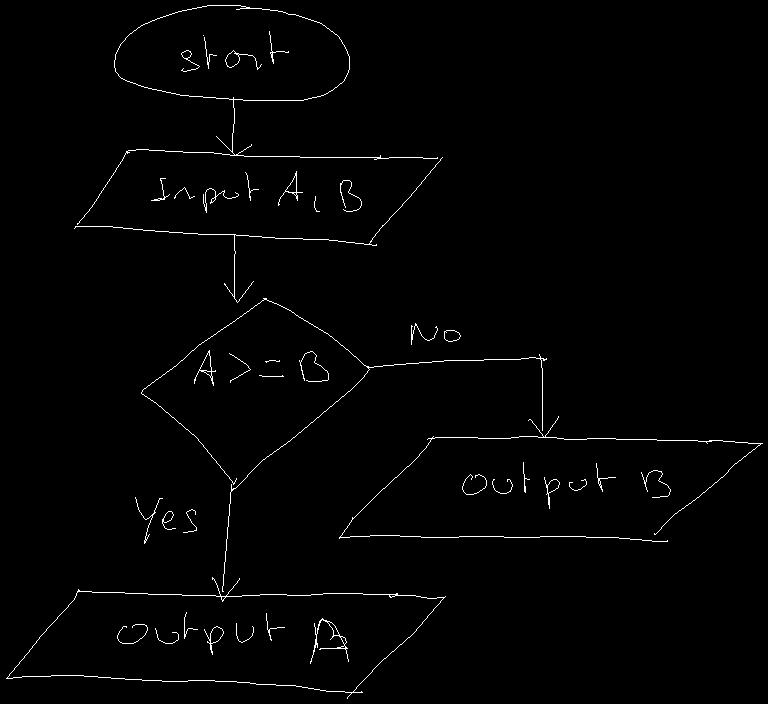arrow: (365, 354, 558, 437), (212, 484, 239, 601), (216, 97, 251, 155), (224, 235, 253, 302)
data: (6, 589, 445, 698), (339, 436, 762, 541), (74, 149, 442, 245)
decision: (141, 298, 369, 491)
terminator: (114, 5, 349, 100)
text: (117, 612, 348, 663), (462, 462, 670, 508), (151, 171, 361, 212), (194, 350, 328, 385), (181, 31, 288, 71), (135, 497, 196, 543), (411, 323, 460, 344)
